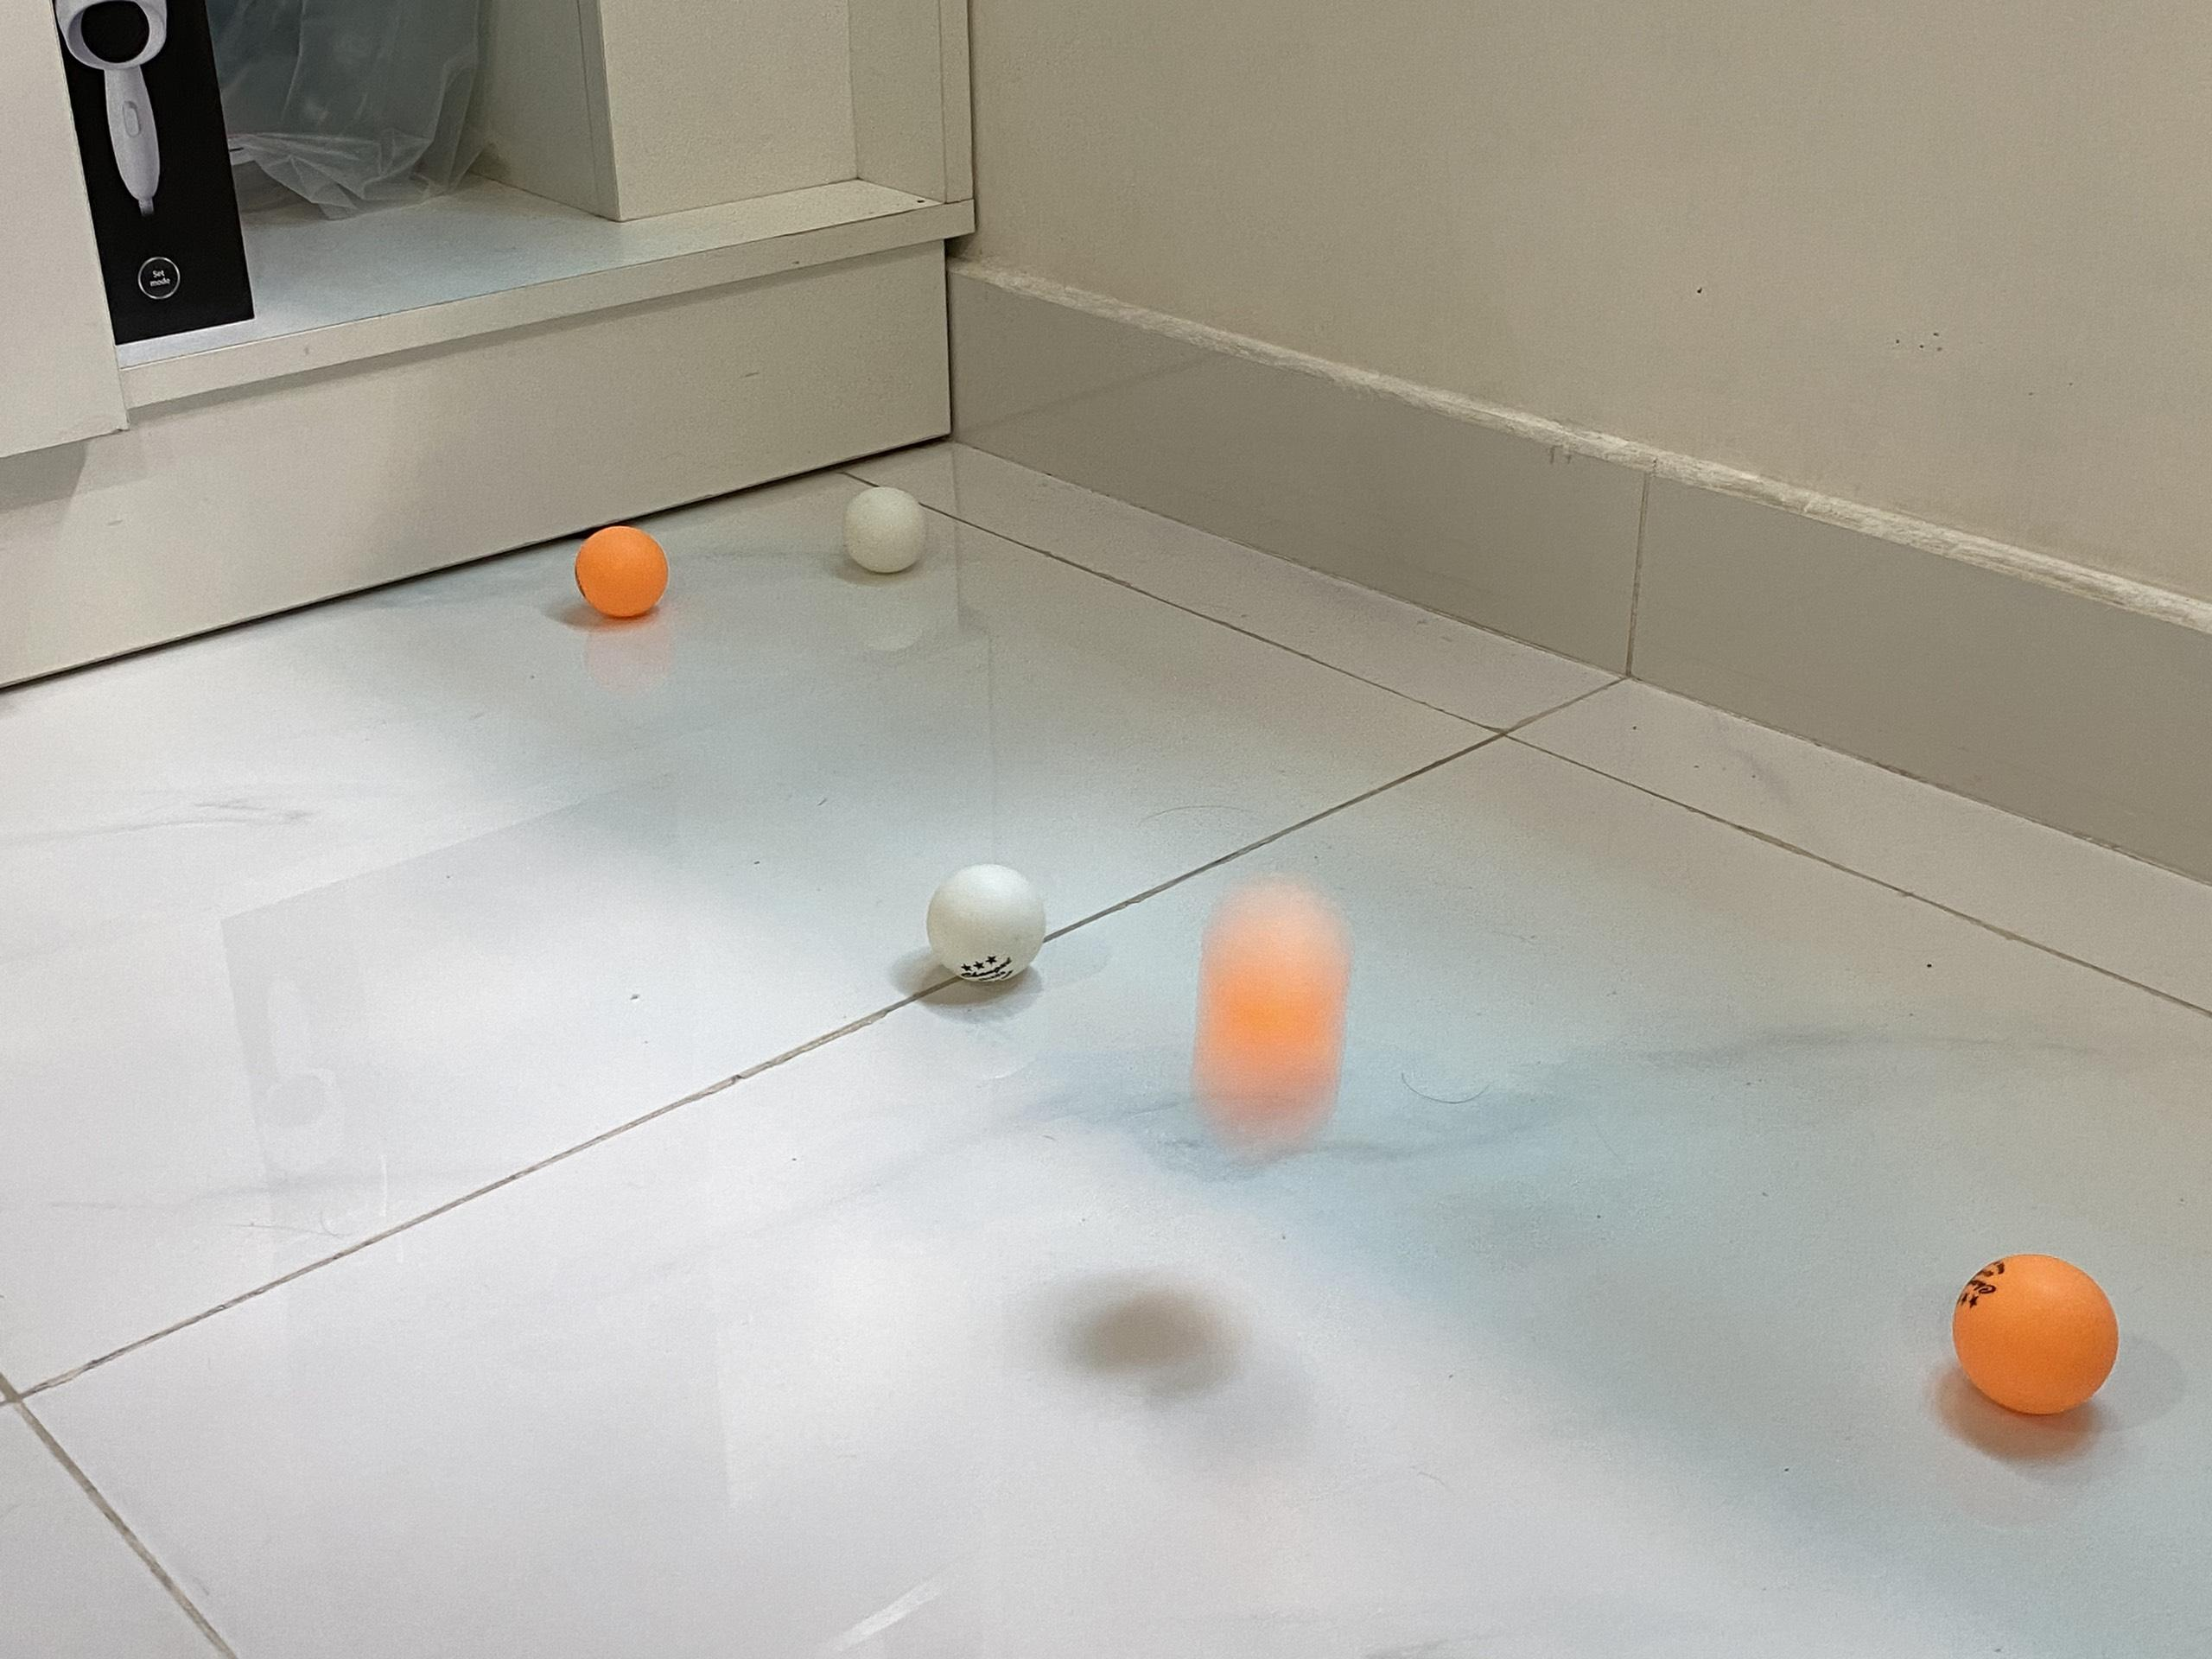oball: (1202, 913, 1346, 1129), (1958, 1256, 2120, 1415), (577, 530, 669, 615)
